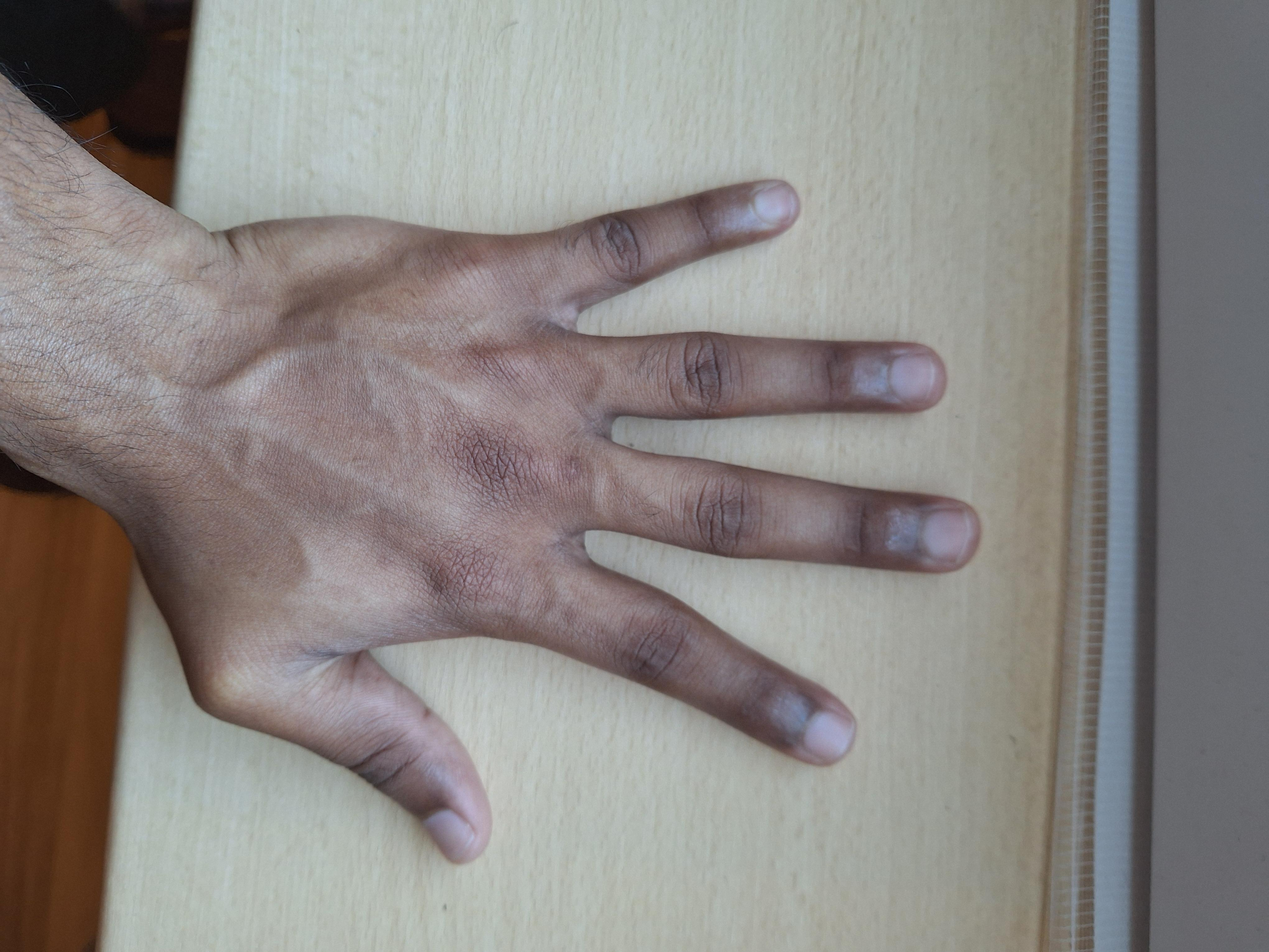Fingernail: (423, 810, 475, 861), (803, 709, 854, 761), (924, 509, 968, 563), (890, 354, 934, 404), (754, 184, 796, 224)
